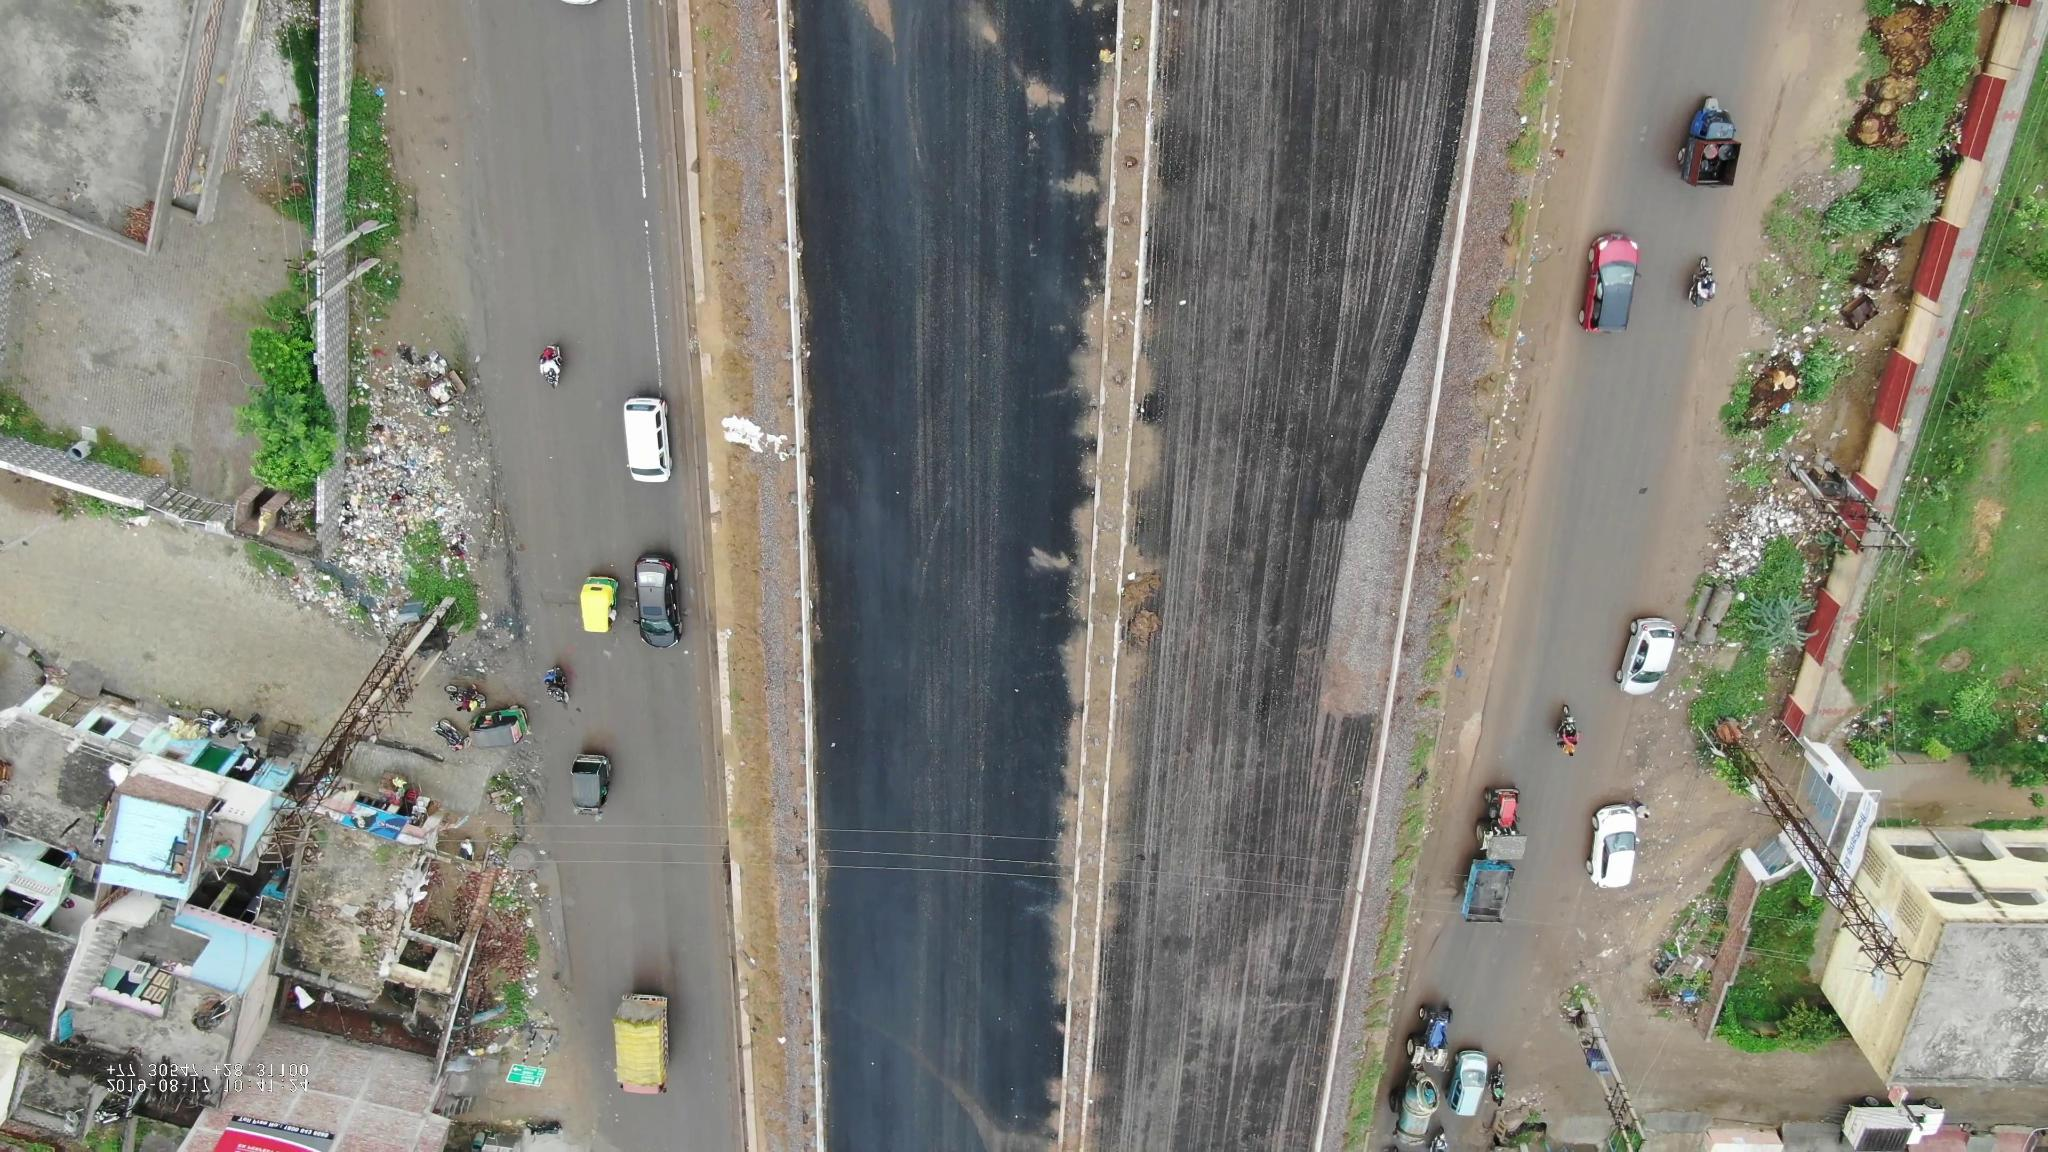Road_side_garbage: (343, 421, 475, 609)
